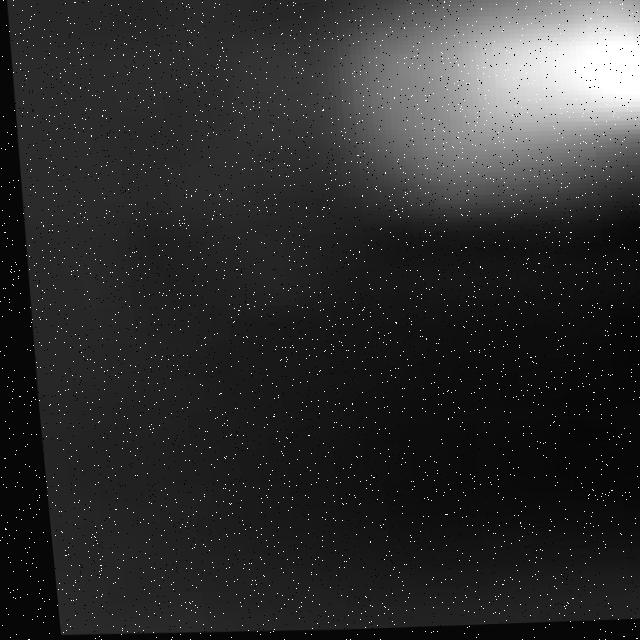person: (263, 1, 640, 226)
